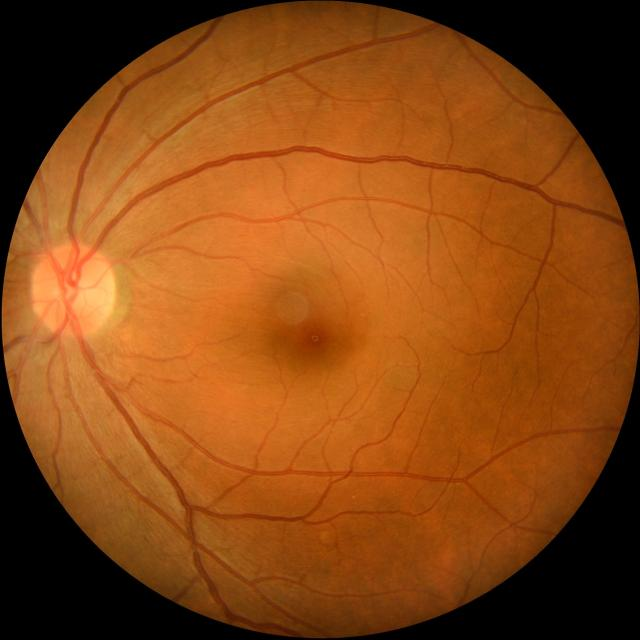OC: (57, 275, 93, 305)
OD: (31, 242, 115, 336)
